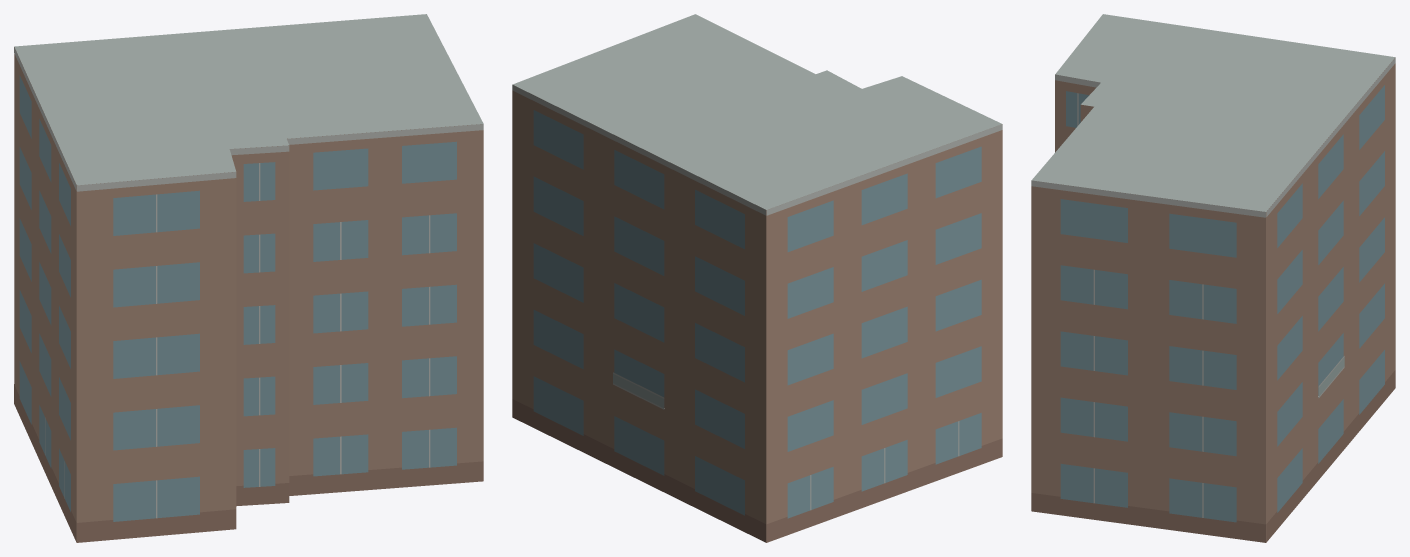
Rendered from survey-upis-32965808.glb.
3 views of the same model, side by side, from view 1: azimuth 30°, elevation 25°; view 2: azimuth 150°, elevation 25°; view 3: azimuth 270°, elevation 25° (orthographic). The views are drawn at different scales.
Parts seen in each view (by area): view 1: survey-upis-32965808.tmp; view 2: survey-upis-32965808.tmp; view 3: survey-upis-32965808.tmp.
Part boxes in pixels (x1=…): survey-upis-32965808.tmp: x1=14, y1=14, x2=483, y2=542; survey-upis-32965808.tmp: x1=512, y1=14, x2=1002, y2=542; survey-upis-32965808.tmp: x1=1031, y1=14, x2=1395, y2=542.
Size of the model in its own units: 17.84 by 13.9 by 13.87.
